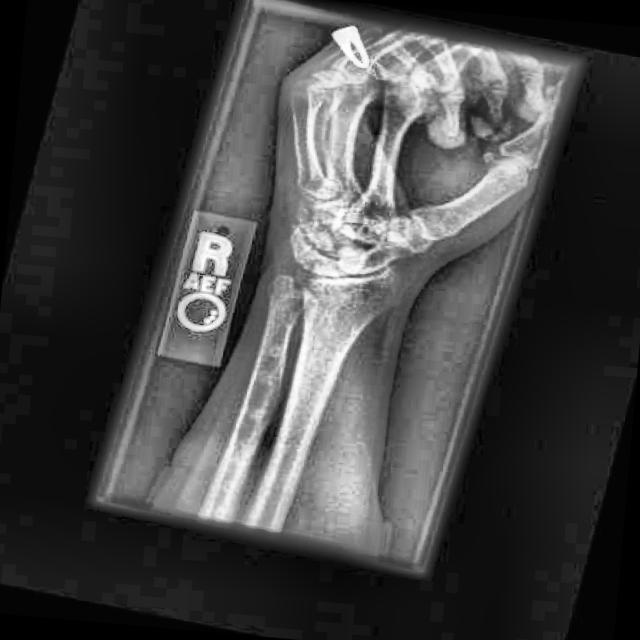wrist positive: (294, 249, 364, 284), (290, 283, 357, 315)
